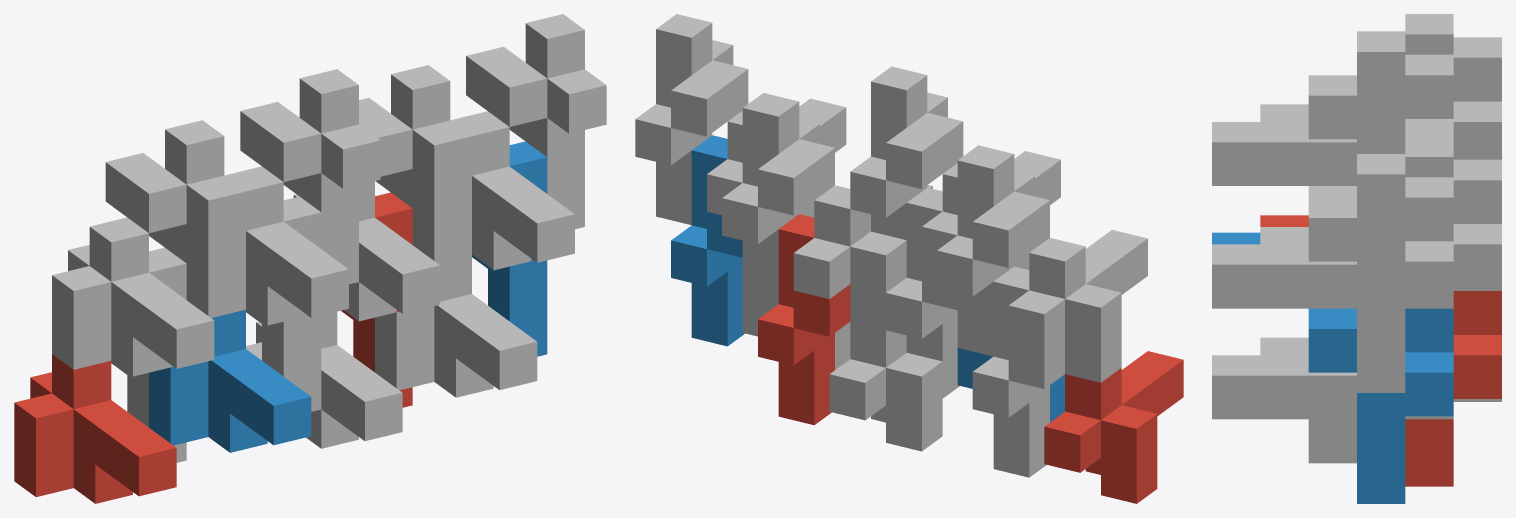
The model's file is tiling.obj.
The picture shows the model from 3 angles, left to right: view 1: azimuth 30°, elevation 25°; view 2: azimuth 150°, elevation 25°; view 3: azimuth 270°, elevation 25°; orthographic projection. The views are drawn at different scales.
Parts seen in each view (by area): view 1: copy_1_domain_3, copy_1_domain_1, copy_1_domain_4, copy_1_domain_8, copy_2_domain_8, copy_2_domain_4, copy_1_domain_6, copy_1_domain_2, copy_2_domain_3, copy_2_domain_7, copy_1_domain_5, copy_1_domain_7 (+4 smaller); view 2: copy_1_domain_3, copy_1_domain_1, copy_2_domain_7, copy_2_domain_3, copy_2_domain_8, copy_2_domain_4, copy_2_domain_5, copy_2_domain_1, copy_1_domain_5, copy_1_domain_7, copy_2_domain_6, copy_2_domain_2 (+4 smaller); view 3: copy_2_domain_8, copy_2_domain_6, copy_2_domain_4, copy_1_domain_6, copy_1_domain_8, copy_2_domain_5, copy_1_domain_4, copy_2_domain_7, copy_2_domain_3, copy_1_domain_5, copy_1_domain_7, copy_1_domain_3 (+3 smaller).
Boxes of the visible parts, x1,y1,x2,y2 form: copy_1_domain_3: (52, 217, 214, 376); copy_1_domain_1: (14, 354, 176, 503); copy_1_domain_4: (186, 166, 348, 325); copy_1_domain_8: (412, 111, 574, 270); copy_2_domain_8: (466, 14, 606, 229); copy_2_domain_4: (240, 69, 380, 284); copy_1_domain_6: (375, 254, 537, 397); copy_1_domain_2: (149, 309, 311, 452); copy_2_domain_3: (105, 120, 245, 262); copy_2_domain_7: (359, 65, 471, 207); copy_1_domain_5: (246, 311, 402, 448); copy_1_domain_7: (293, 181, 439, 321); copy_1_domain_3: (1008, 230, 1147, 382); copy_1_domain_1: (1044, 351, 1183, 503); copy_2_domain_7: (722, 93, 834, 303); copy_2_domain_3: (937, 145, 1049, 356); copy_2_domain_8: (635, 14, 748, 224); copy_2_domain_4: (850, 66, 963, 239); copy_2_domain_5: (758, 214, 850, 425); copy_2_domain_1: (972, 266, 1064, 477); copy_1_domain_5: (829, 321, 942, 451); copy_1_domain_7: (793, 185, 932, 330); copy_2_domain_6: (671, 135, 744, 346); copy_2_domain_2: (886, 187, 959, 398); copy_2_domain_8: (1308, 154, 1453, 392); copy_2_domain_6: (1308, 308, 1453, 503); copy_2_domain_4: (1308, 31, 1453, 153); copy_1_domain_6: (1212, 355, 1453, 463); copy_1_domain_8: (1212, 244, 1453, 308); copy_2_domain_5: (1405, 291, 1501, 486); copy_1_domain_4: (1212, 122, 1356, 185); copy_2_domain_7: (1405, 136, 1501, 287); copy_2_domain_3: (1405, 14, 1501, 159); copy_1_domain_5: (1260, 337, 1501, 401); copy_1_domain_7: (1260, 227, 1501, 290); copy_1_domain_3: (1260, 104, 1308, 121).
Size of the model in its own units: 14 by 9 by 6.
